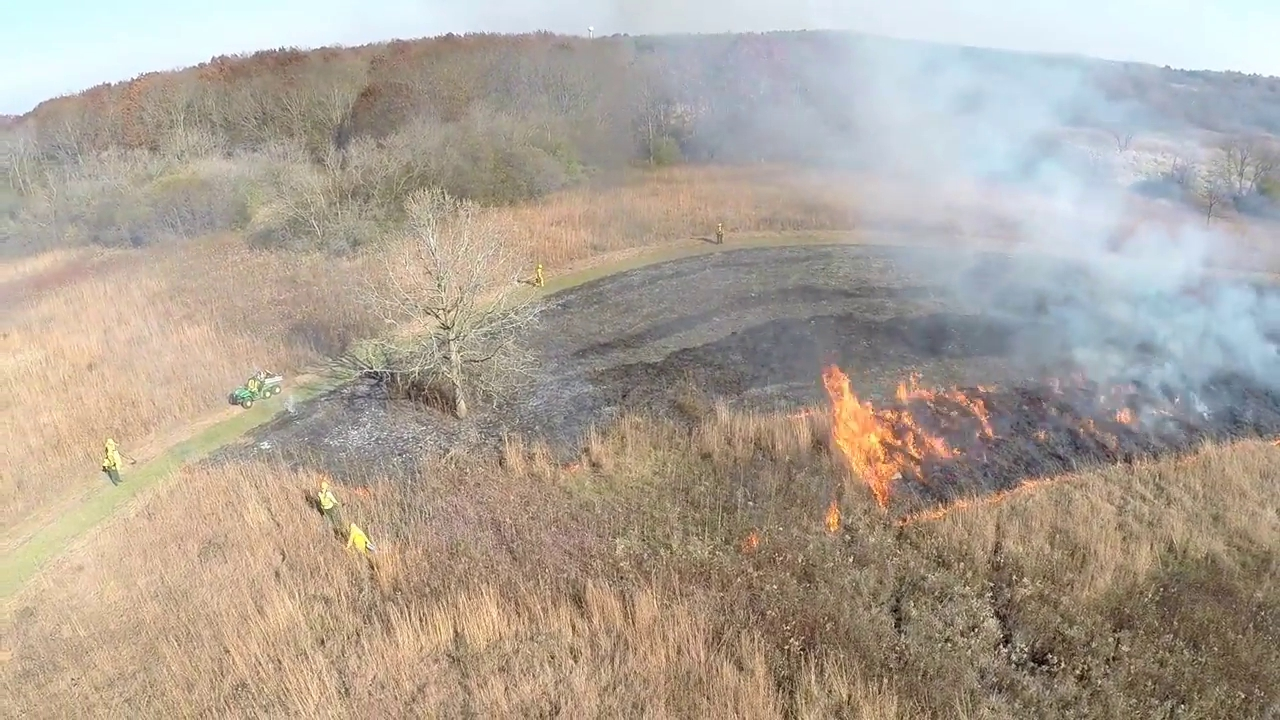forest_fire: (823, 365, 996, 511), (896, 480, 1052, 525), (824, 500, 840, 531), (1112, 409, 1136, 424)
